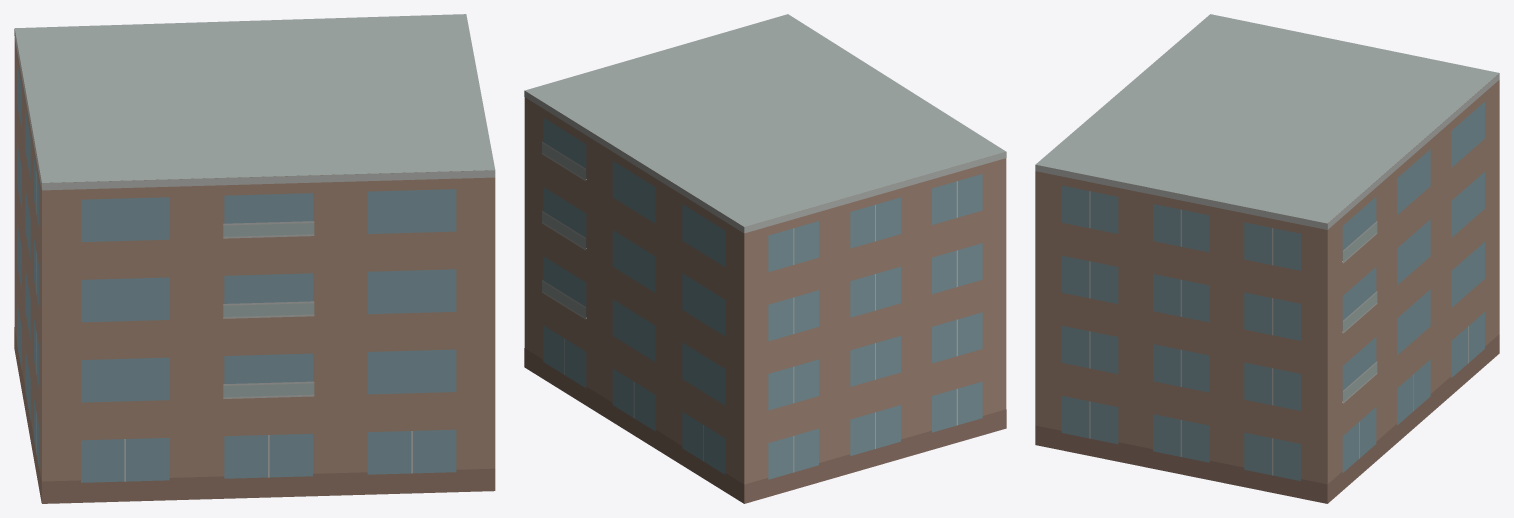
File: survey-upis-32819337.glb
The picture shows the model from 3 angles, left to right: view 1: azimuth 30°, elevation 25°; view 2: azimuth 150°, elevation 25°; view 3: azimuth 270°, elevation 25°; orthographic projection. The views are drawn at different scales.
Parts seen in each view (by area): view 1: survey-upis-32819337.tmp; view 2: survey-upis-32819337.tmp; view 3: survey-upis-32819337.tmp.
Part boxes in pixels (x1,y1,x2,y2): survey-upis-32819337.tmp: (14, 14, 495, 503); survey-upis-32819337.tmp: (524, 14, 1006, 503); survey-upis-32819337.tmp: (1035, 14, 1499, 503).
Bounding box in the file's own units: 16.99 × 10.59 × 15.91.
